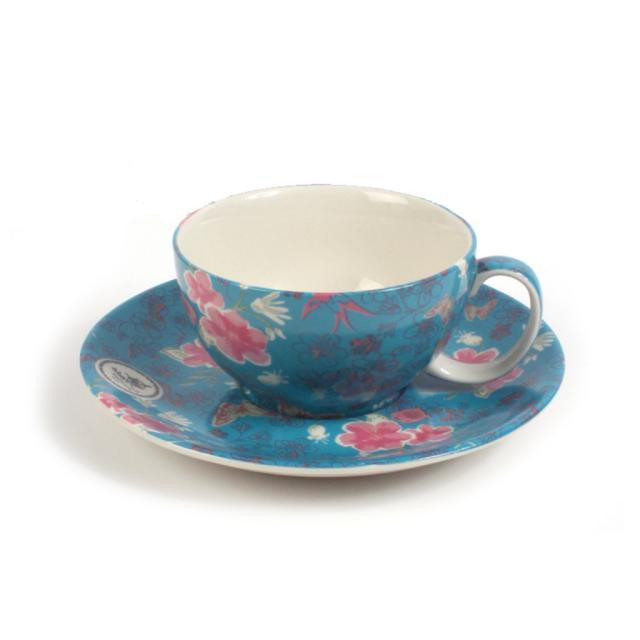ceramic plate: (20, 185, 577, 530)
